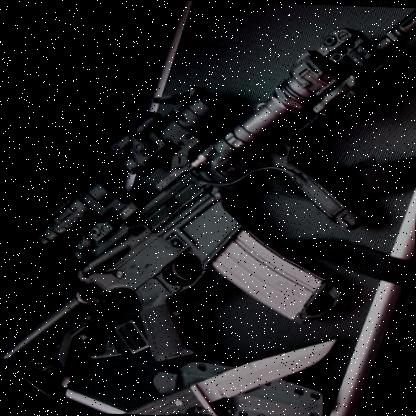rifle: (5, 0, 416, 410)
